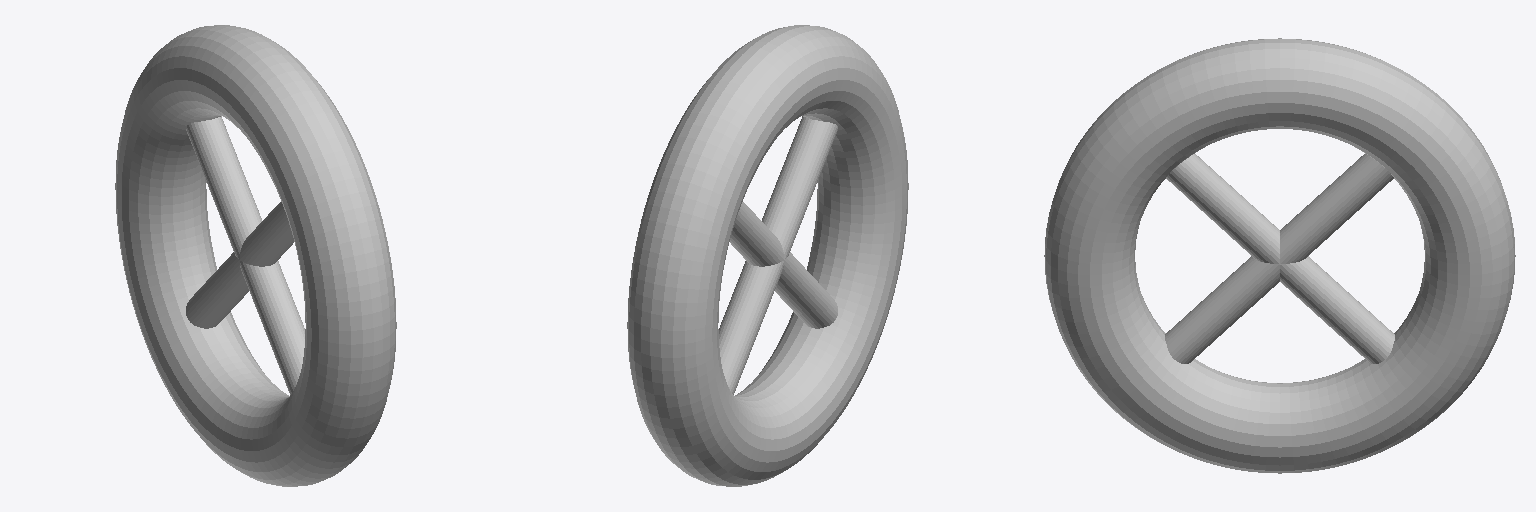
File: goal_locked.obj
3 views of the same model, side by side, from view 1: azimuth 30°, elevation 25°; view 2: azimuth 150°, elevation 25°; view 3: azimuth 270°, elevation 25° (orthographic).
Visible parts, largest first — view 1: Torus, Cylinder, Cylinder.001; view 2: Torus, Cylinder.001, Cylinder; view 3: Torus, Cylinder, Cylinder.001.
Boxes of the visible parts, <box> form: Torus: <box>115,25,396,486</box>; Cylinder: <box>186,116,304,394</box>; Cylinder.001: <box>186,202,293,328</box>; Torus: <box>627,25,908,486</box>; Cylinder.001: <box>719,116,837,394</box>; Cylinder: <box>730,202,837,328</box>; Torus: <box>1044,38,1515,473</box>; Cylinder: <box>1165,154,1393,363</box>; Cylinder.001: <box>1166,154,1394,363</box>.
Size of the model in its own units: 0.4777 by 2.47 by 2.47.